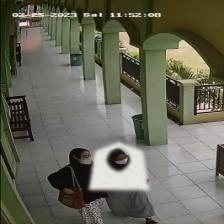Mukena: (89, 142, 148, 189)
